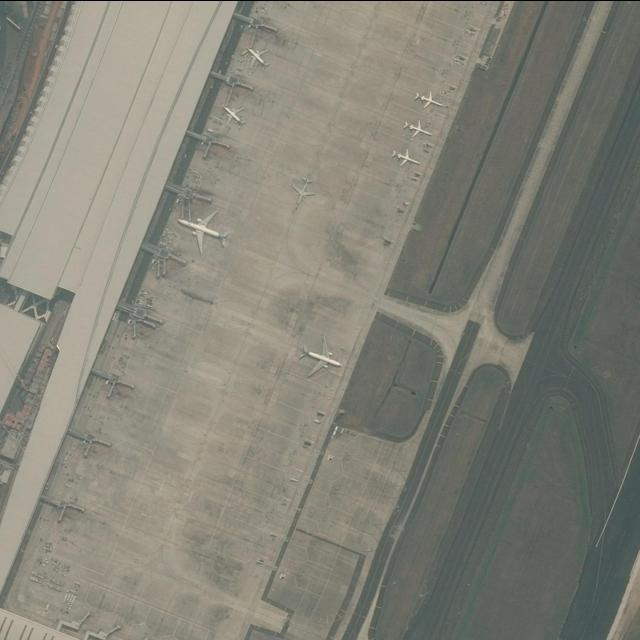Aircraft: (179, 204, 229, 254), (296, 334, 345, 382), (292, 174, 316, 208), (245, 41, 270, 73), (222, 103, 246, 129), (404, 121, 433, 142), (393, 149, 423, 169), (415, 91, 443, 110)
